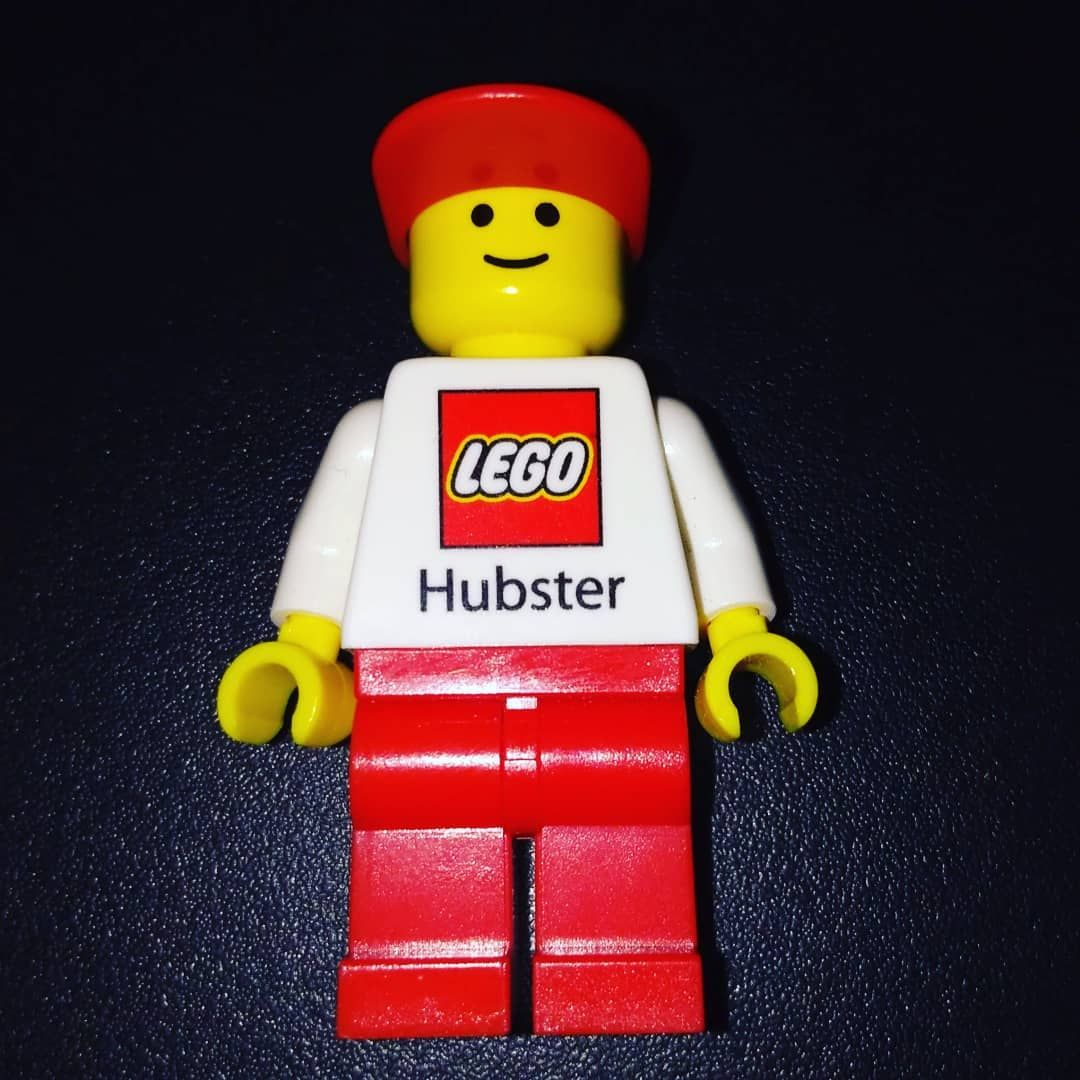lego: (180, 58, 836, 1056)
